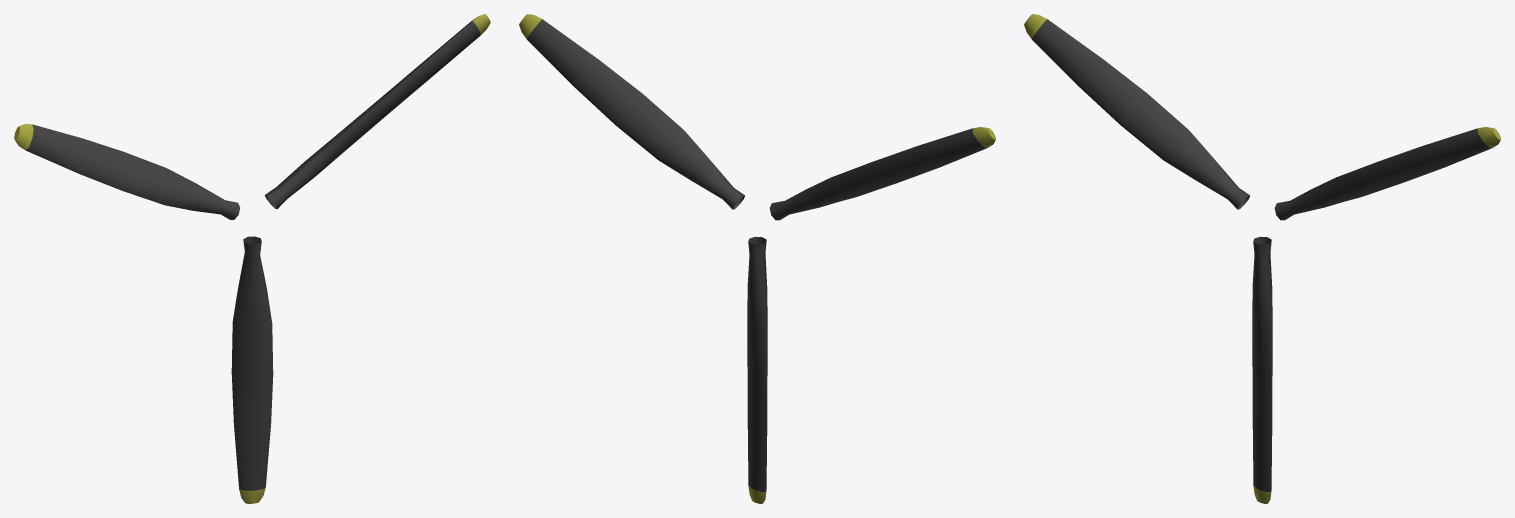
File: B17_propeller_slow.glb
The picture shows the model from 3 angles, left to right: view 1: azimuth 30°, elevation 25°; view 2: azimuth 150°, elevation 25°; view 3: azimuth 330°, elevation 25°; orthographic projection.
Parts seen in each view (by area): view 1: Cylinder.004; view 2: Cylinder.004; view 3: Cylinder.004.
Part boxes in pixels (bbox=[...]): Cylinder.004: bbox=[14, 14, 490, 503]; Cylinder.004: bbox=[519, 14, 995, 503]; Cylinder.004: bbox=[1024, 14, 1500, 503].
Bounding box in the file's own units: 2.81 × 2.43 × 0.1395.
